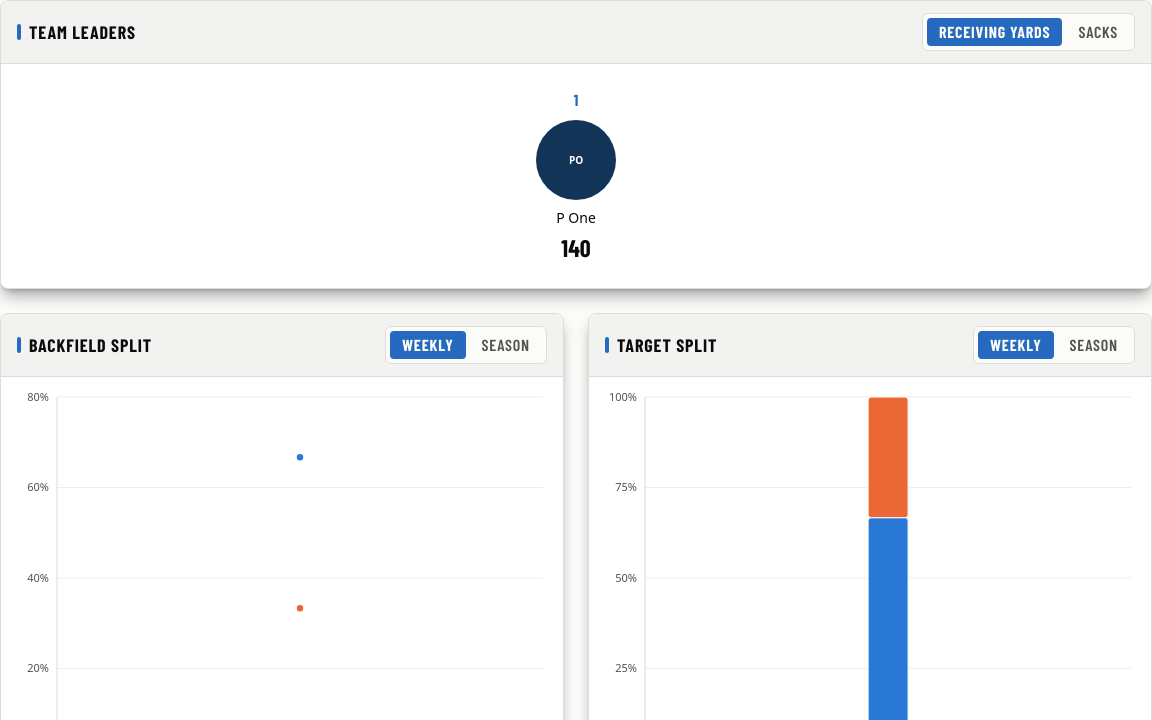
Test: TeamPlaymakingPanel › opens the leaders row on the first stat and switches on the toggle
Expected: the link "1 PO P One 140" is shown, left=536, top=90, right=616, bottom=262
Expected: the text "140" is shown, left=561, top=232, right=591, bottom=264
Click the button "Sacks". click: click(1098, 32)
box: left=1066, top=18, right=1130, bottom=46
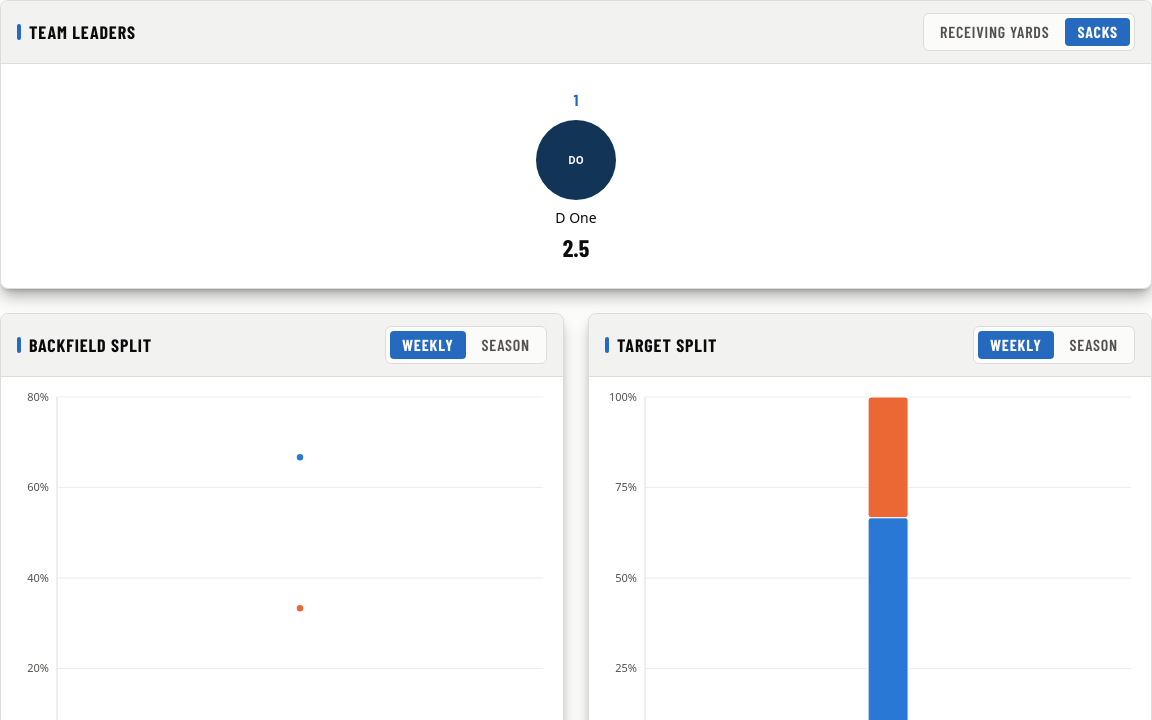
Now the link "1 DO D One 2.5" is shown, box left=536, top=90, right=616, bottom=262
Now the text "2.5" is shown, box left=563, top=232, right=589, bottom=264
